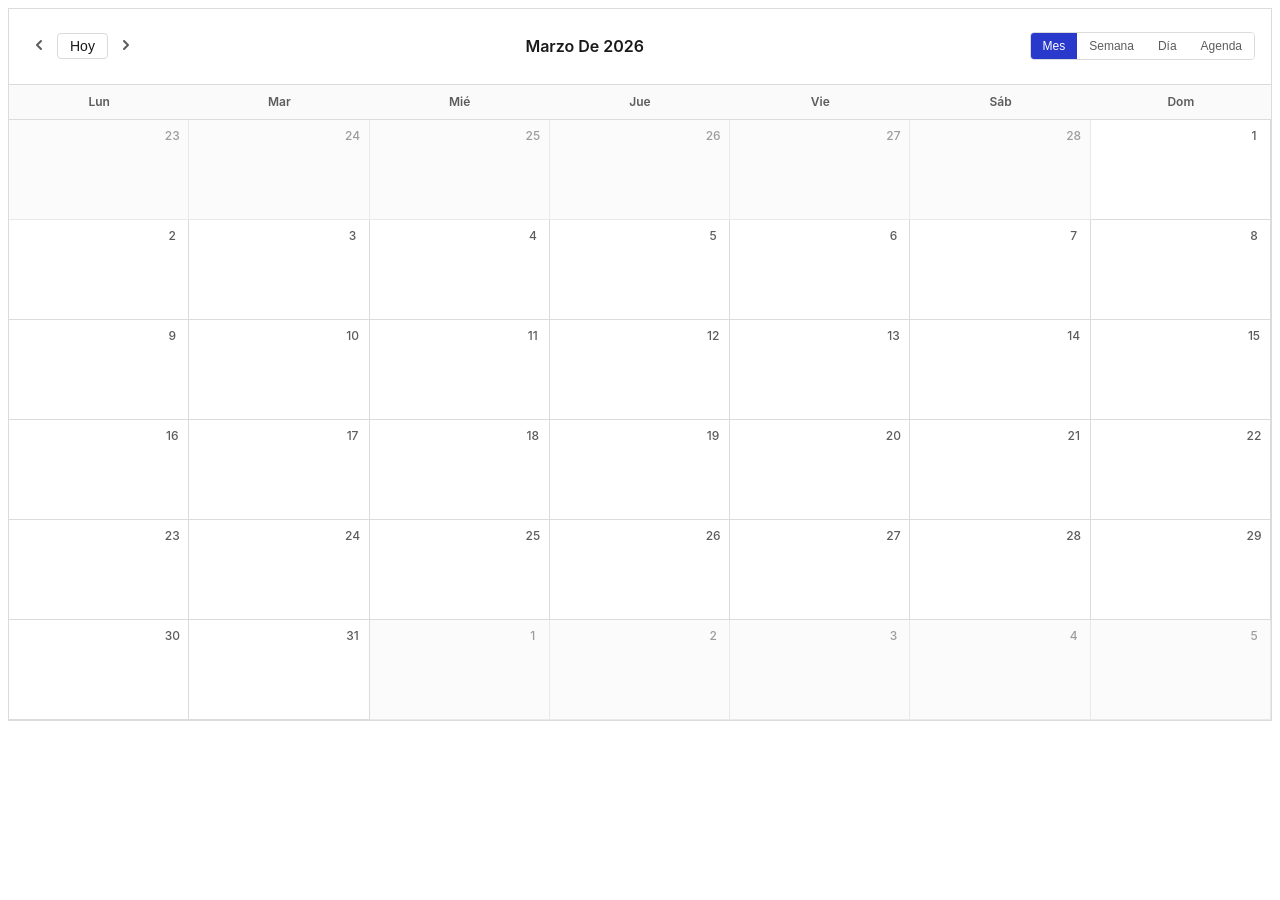
it: Calendar › Range Selection › mousedown on cell A + mouseenter cell B + mouseup on grid opens range popover
Press the mouse on the 1st cell "23" at (99, 170), box [9,120,189,220]
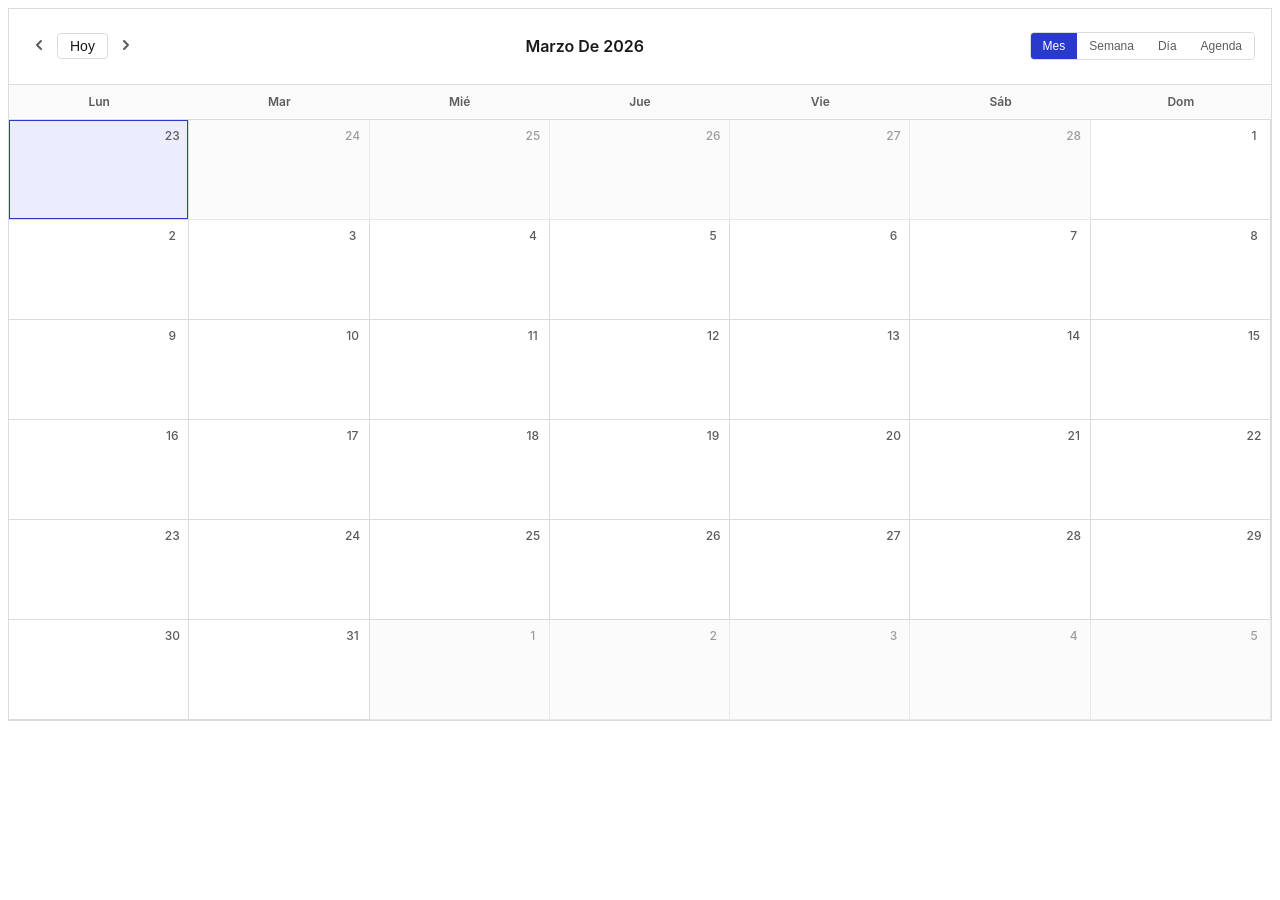
Hover over the 1st cell "27" at (820, 170), box [730,120,910,220]
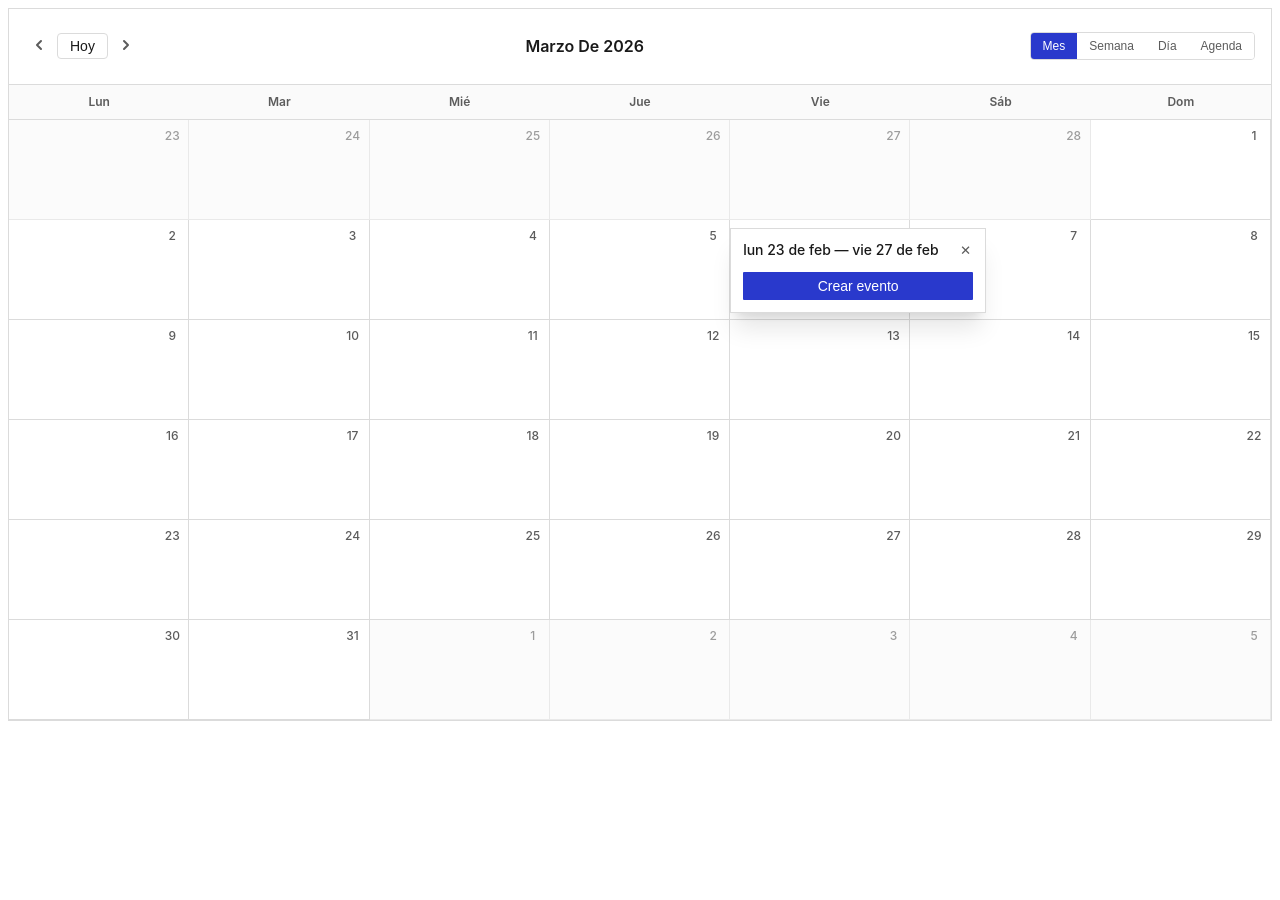
Now the dialog is shown, box [730,228,986,312]
